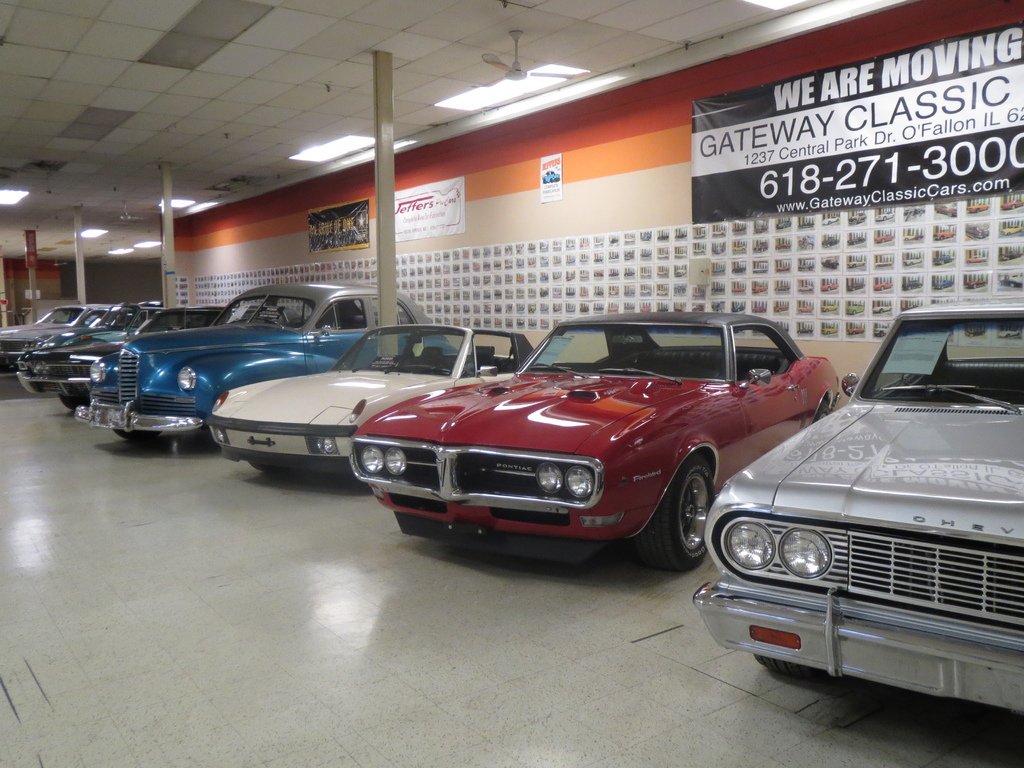Car: (0, 282, 1023, 714)
